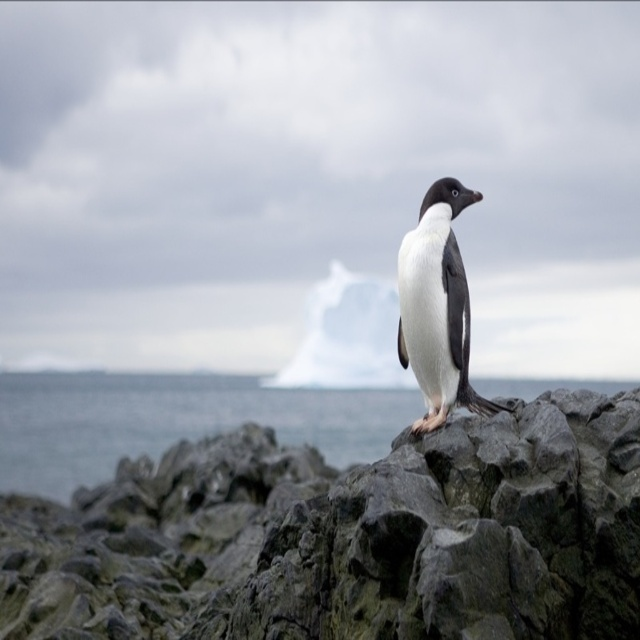Penguin: (394, 173, 512, 433)
